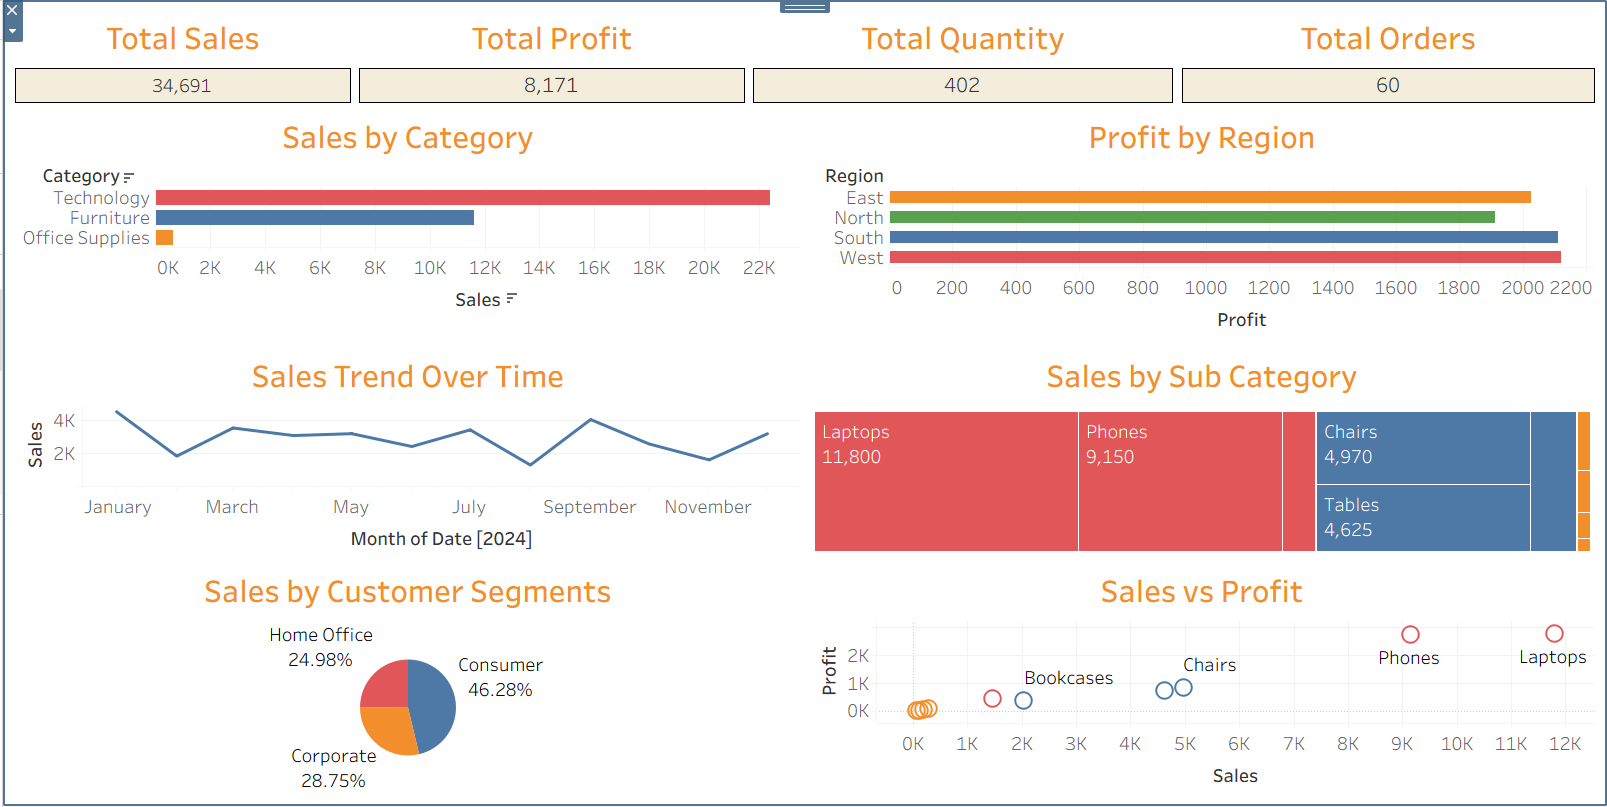

This screenshot's page, from the dashboard's own definition file:
{"tool":"tableau","page":{"name":"Sales Performance Dashboard","canvas":[1000,1000],"units":"permille","ordinal":0},"visuals":[{"type":"worksheet","title":"Total Sales","mark":"Automatic","box":[5,9.9,214.7,122.7]},{"type":"worksheet","title":"Total Profit","mark":"Automatic","box":[219.7,9.9,245.6,122.7]},{"type":"worksheet","title":"Total Quantity","mark":"Automatic","box":[465.3,9.9,267.1,122.7]},{"type":"worksheet","title":"Total Orders","mark":"Automatic","box":[732.3,9.9,262.7,122.7]},{"type":"worksheet","title":"Sales by Category","mark":"Automatic","rows":["Category"],"cols":["Sales"],"box":[5,132.6,494.9,296.7]},{"type":"worksheet","title":"Profit by Region","mark":"Automatic","rows":["Region"],"cols":["Profit"],"box":[499.9,132.6,495.1,296.7]},{"type":"worksheet","title":"Sales Trend Over Time","mark":"Automatic","rows":["Sales"],"cols":["Date"],"box":[5,429.3,494.9,266.8]},{"type":"worksheet","title":"Sales by Sub Category","mark":"Automatic","box":[499.9,429.3,495.1,266.8]},{"type":"worksheet","title":"Sales by Customer Segments","mark":"Pie","box":[5,696,495,294]},{"type":"worksheet","title":"Sales vs Profit","mark":"Automatic","rows":["Profit"],"cols":["Sales"],"box":[500,696,495,294]}]}

Visuals, with their boxes on the dashboard's canvas, which has no fixed pixel size, in thousandths of its width and height (x1, y1, x2, y2). These are canvas units, not pixel positions in the 1607x807 screenshot, which may show the page scaled, cropped or inside an application window:
"Total Sales" worksheet: (5,10,220,133)
"Total Profit" worksheet: (220,10,465,133)
"Total Quantity" worksheet: (465,10,732,133)
"Total Orders" worksheet: (732,10,995,133)
"Sales by Category" worksheet: (5,133,500,429)
"Profit by Region" worksheet: (500,133,995,429)
"Sales Trend Over Time" worksheet: (5,429,500,696)
"Sales by Sub Category" worksheet: (500,429,995,696)
"Sales by Customer Segments" worksheet (Pie marks): (5,696,500,990)
"Sales vs Profit" worksheet: (500,696,995,990)
